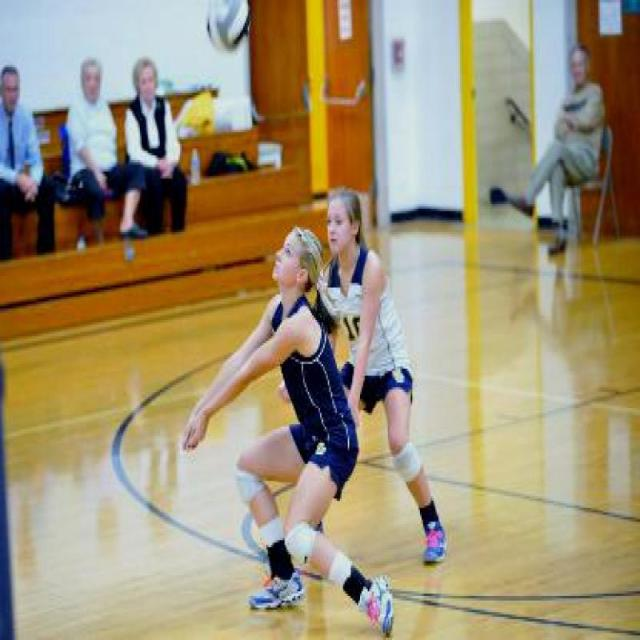volleyball: (206, 0, 252, 56)
